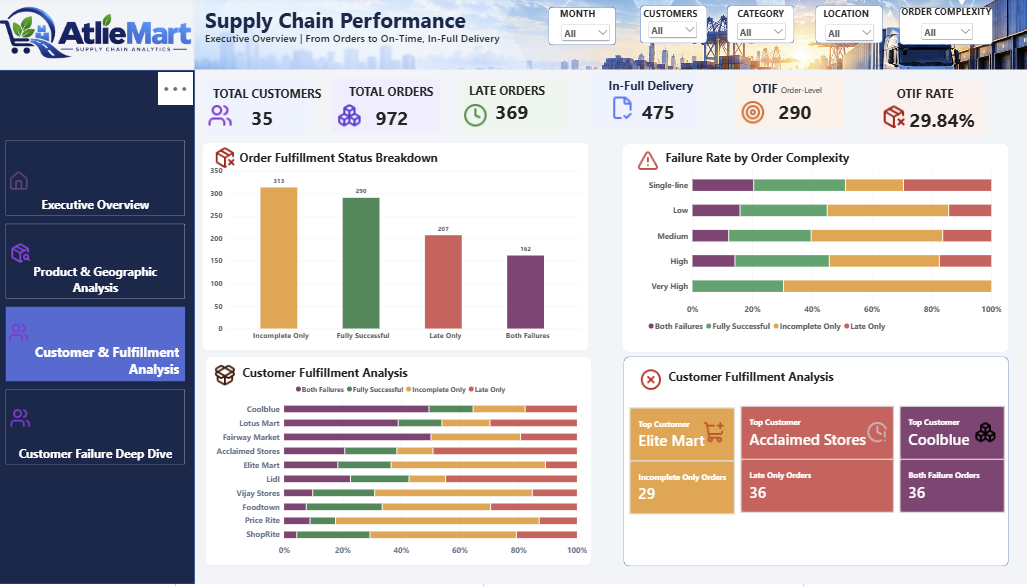

Layout of this report page (visuals, bound fields, positions):
{"tool":"powerbi","page":{"name":"Customer & Fulfillment Analysis","canvas":[2100,1200],"ordinal":2},"visuals":[{"type":"shape","box":[0,151.5,401,1047.6],"z":0,"group":"g1"},{"type":"shape","box":[418.2,169.7,218.2,112.1],"z":0,"group":"g4"},{"type":"shape","box":[680,171.4,220,110],"z":0,"group":"g5"},{"type":"cardVisual","fields":{"Data":["Measures_table.Total_Orders"]},"box":[703.7,206,193.8,72],"z":0,"group":"g2"},{"type":"cardVisual","fields":{"Data":["Measures_table.FULFILLEDORDER%"]},"box":[1837.7,211,168.9,64.6],"z":0,"group":"g3"},{"type":"shape","box":[417.1,300,788.6,425.7],"z":0,"group":"g6"},{"type":"shape","box":[1271.9,303.1,788.6,425.7],"z":0},{"type":"shape","box":[421.1,736.8,788.6,425.7],"z":0,"group":"g7"},{"type":"textbox","box":[1365.3,761.6,551.7,37.1],"z":0,"group":"g8"},{"type":"group","id":"g1","title":"Group 5","box":[0,151.5,401,1047.6],"z":500},{"type":"shape","box":[1790.6,174.5,220,110],"z":1000},{"type":"group","id":"g2","title":"Group 2","box":[685.8,179.2,211.7,98.9],"z":1000,"group":"g5"},{"type":"cardVisual","fields":{"Data":["Count(fact_order_line_rows.customer_id)"]},"box":[477.2,205.2,123.2,70.9],"z":1000,"group":"g4"},{"type":"image","box":[685.8,220.5,56,50],"z":1000,"group":"g2"},{"type":"image","box":[1796.4,223.6,56,50],"z":1000,"group":"g3"},{"type":"pageNavigator","box":[15.8,294.2,366.5,660.3],"z":1000,"group":"g1"},{"type":"clusteredColumnChart","fields":{"Category":["Order_Complexity.Fulfillment_Status"],"Y":["Measures_table.Total_Orders"]},"box":[417.1,334.3,788.6,391.4],"z":1000,"group":"g6"},{"type":"image","box":[1300.4,761.6,56.8,45],"z":1000,"group":"g8"},{"type":"hundredPercentStackedBarChart","fields":{"Category":["dim_customers_rows.customer_name"],"Y":["Measures_table.Customer_Both_Failures_Orders","Measures_table.Customer_Fully_Successful_Orders","Measures_table.Customer_Incomplete_Only_Orders","Measures_table.Customer_Late_Only_Orders"]},"box":[425.9,772,788.6,391.4],"z":1000,"group":"g7"},{"type":"shape","box":[940,171.4,220,110],"z":2000},{"type":"textbox","box":[713.7,179.2,176.9,33.3],"z":2000,"group":"g2"},{"type":"textbox","box":[1824.3,182.3,176.9,33.3],"z":2000,"group":"g3"},{"type":"image","box":[423.9,219.7,55.5,51],"z":2000,"group":"g4"},{"type":"textbox","box":[495,314.3,551.7,37.1],"z":2000,"group":"g6"},{"type":"image","box":[18.9,501.8,54.1,42.8],"z":2000,"group":"g1"},{"type":"textbox","box":[499,751.1,551.7,37.1],"z":2000,"group":"g7"},{"type":"textbox","box":[435.8,182.7,269.7,27.3],"z":3000,"group":"g4"},{"type":"image","box":[435.7,308.1,56.8,45],"z":3000,"group":"g6"},{"type":"textbox","box":[1360.7,314.3,551.7,37.1],"z":3000},{"type":"image","box":[434.1,751.1,56.8,45],"z":3000,"group":"g7"},{"type":"image","box":[18.9,840.1,54.1,42.8],"z":3000,"group":"g1"},{"type":"image","box":[16.2,665.7,54.1,42.8],"z":4000},{"type":"image","box":[1295.8,314.3,56.8,45],"z":5000},{"type":"image","box":[15.8,357.7,54.1,42.8],"z":5000,"group":"g1"},{"type":"shape","box":[1211.6,159.8,220,110],"z":6000},{"type":"shape","box":[1274.5,735.7,784.9,427.4],"z":7000},{"type":"shape","box":[1504,165.9,220,110],"z":8000},{"type":"cardVisual","fields":{"Data":["Measures_table.Top_Incomplete_Customer","Measures_table.Top_Incomplete_Customer_Count"]},"box":[1286.9,840.5,214.8,218],"z":9000},{"type":"image","box":[0,0,400,154],"z":10000},{"type":"cardVisual","fields":{"Data":["Measures_table.Orders_With_Late_Deliveries"]},"box":[987,194.3,119.2,82],"z":11000},{"type":"image","box":[1431.3,868.9,56.8,45],"z":12000},{"type":"cardVisual","fields":{"Data":["Measures_table.Orders_With_Incomplete_Deliveries"]},"box":[1258.6,194.9,172.7,63.6],"z":13000},{"type":"cardVisual","fields":{"Data":["CountNonNull(Order_Complexity.FulfillED ORDERS)"]},"box":[1537.4,194.9,173.9,72],"z":14000},{"type":"image","box":[401,4.5,1700.9,148.7],"z":15000},{"type":"image","box":[945.8,220.5,56,50],"z":16000},{"type":"image","box":[1242.4,206.1,56,50],"z":17000},{"type":"image","box":[1509.8,214.9,56,50],"z":18000},{"type":"textbox","box":[422.3,19.9,628.5,84.5],"z":19000},{"type":"textbox","box":[958.5,176.2,230.3,81.8],"z":20000},{"type":"textbox","box":[1245.2,167.6,176.9,33.3],"z":21000},{"type":"textbox","box":[1537.7,173.6,176.9,33.3],"z":22000},{"type":"textbox","box":[421.3,72.1,757,38.3],"z":23000},{"type":"shape","box":[1666,22.5,137,77],"z":24000},{"type":"shape","box":[1307.8,22.5,137,77],"z":25000},{"type":"shape","box":[1121.7,23.3,137.3,77.7],"z":26000},{"type":"shape","box":[1485.7,22.5,137,77],"z":27000},{"type":"shape","box":[1836.7,23.3,190,77],"z":28000},{"type":"group","id":"g3","title":"Group 2","box":[1796.4,182.3,210.3,93.3],"z":29000},{"type":"slicer","fields":{"Values":["dim_products_rows.category"]},"box":[1499.9,51.8,109.3,84.5],"z":30000},{"type":"slicer","fields":{"Values":["dim_customers_rows.city"]},"box":[1681.2,54.4,109.3,84.5],"z":31000},{"type":"slicer","fields":{"Values":["Order_Complexity.complexity_Category"]},"box":[1875.5,51.8,115.1,81.2],"z":32000},{"type":"slicer","fields":{"Values":["dim_customers_rows.customer_name"]},"box":[1321.6,49.7,109.3,84.5],"z":33000},{"type":"slicer","fields":{"Values":["date_table.month_name"]},"box":[1142.4,54.4,109.3,84.5],"z":34000},{"type":"textbox","box":[1269.4,24.8,203.7,84.5],"z":35000},{"type":"textbox","box":[1088.1,24.8,186.4,85.3],"z":36000},{"type":"textbox","box":[1634.6,24.8,186.4,85.3],"z":37000},{"type":"textbox","box":[1833.4,22.4,196.9,44],"z":38000},{"type":"textbox","box":[1460.7,24.8,186.4,85.3],"z":39000},{"type":"group","id":"g4","title":"Group 1","box":[418.2,169.7,287.3,112.1],"z":40000},{"type":"group","id":"g5","title":"Group 3","box":[680,171.4,220,110],"z":41000},{"type":"group","id":"g6","title":"Group 4","box":[417.1,300,788.6,425.7],"z":42000},{"type":"hundredPercentStackedBarChart","fields":{"Category":["Order_Complexity.complexity_Category"],"Series":["Order_Complexity.Fulfillment_Status"],"Y":["Count(fact_order_line_rows.order_id)"]},"box":[1306.7,332.9,752.7,372.6],"z":43000},{"type":"group","id":"g7","title":"Group 4","box":[421.1,736.8,793.4,426.6],"z":44000},{"type":"cardVisual","fields":{"Data":["Measures_table.Top_Late_Customer","Measures_table.Top_Late_Customer_Count"]},"box":[1513.4,837.3,312.8,218],"z":45000},{"type":"cardVisual","fields":{"Data":["Measures_table.Top_Both_Failure_Customer","Measures_table.Top_Both_Failure_Customer_Count"]},"box":[1835.7,837.3,214.8,218],"z":46000},{"type":"image","box":[1763,868.9,56.8,45],"z":47000},{"type":"image","box":[1984.2,868.9,56.8,45],"z":48000},{"type":"group","id":"g8","title":"Group 4","box":[1300.4,761.6,616.5,44],"z":49000},{"type":"actionButton","box":[1286.9,840.5,216.4,216.4],"z":50000},{"type":"actionButton","box":[1512.8,836.2,313.9,219.2],"z":51000},{"type":"actionButton","box":[1837.5,836.2,211.1,219.2],"z":52000}]}

Visuals, with their boxes on the page's 2100x1200 design canvas (x1, y1, x2, y2). These are canvas units, not pixel positions in the 1027x586 screenshot, which may show the page scaled, cropped or inside an application window:
shape: <box>0,152,401,1199</box>
shape: <box>418,170,636,282</box>
shape: <box>680,171,900,281</box>
cardVisual - Measures_table.Total_Orders: <box>704,206,898,278</box>
cardVisual - Measures_table.FULFILLEDORDER%: <box>1838,211,2007,276</box>
shape: <box>417,300,1206,726</box>
shape: <box>1272,303,2060,729</box>
shape: <box>421,737,1210,1162</box>
textbox: <box>1365,762,1917,799</box>
"Group 5" group: <box>0,152,401,1199</box>
shape: <box>1791,174,2011,284</box>
"Group 2" group: <box>686,179,898,278</box>
cardVisual - Count(fact_order_line_rows.customer_id): <box>477,205,600,276</box>
image: <box>686,220,742,270</box>
image: <box>1796,224,1852,274</box>
pageNavigator: <box>16,294,382,954</box>
clusteredColumnChart - Order_Complexity.Fulfillment_Status x Measures_table.Total_Orders: <box>417,334,1206,726</box>
image: <box>1300,762,1357,807</box>
hundredPercentStackedBarChart - dim_customers_rows.customer_name x Measures_table.Customer_Both_Failures_Orders: <box>426,772,1214,1163</box>
shape: <box>940,171,1160,281</box>
textbox: <box>714,179,891,212</box>
textbox: <box>1824,182,2001,216</box>
image: <box>424,220,479,271</box>
textbox: <box>495,314,1047,351</box>
image: <box>19,502,73,545</box>
textbox: <box>499,751,1051,788</box>
textbox: <box>436,183,706,210</box>
image: <box>436,308,492,353</box>
textbox: <box>1361,314,1912,351</box>
image: <box>434,751,491,796</box>
image: <box>19,840,73,883</box>
image: <box>16,666,70,708</box>
image: <box>1296,314,1353,359</box>
image: <box>16,358,70,400</box>
shape: <box>1212,160,1432,270</box>
shape: <box>1274,736,2059,1163</box>
shape: <box>1504,166,1724,276</box>
cardVisual - Measures_table.Top_Incomplete_Customer x Measures_table.Top_Incomplete_Customer_Count: <box>1287,840,1502,1058</box>
image: <box>0,0,400,154</box>
cardVisual - Measures_table.Orders_With_Late_Deliveries: <box>987,194,1106,276</box>
image: <box>1431,869,1488,914</box>
cardVisual - Measures_table.Orders_With_Incomplete_Deliveries: <box>1259,195,1431,258</box>
cardVisual - CountNonNull(Order_Complexity.FulfillED ORDERS): <box>1537,195,1711,267</box>
image: <box>401,4,2102,153</box>
image: <box>946,220,1002,270</box>
image: <box>1242,206,1298,256</box>
image: <box>1510,215,1566,265</box>
textbox: <box>422,20,1051,104</box>
textbox: <box>958,176,1189,258</box>
textbox: <box>1245,168,1422,201</box>
textbox: <box>1538,174,1715,207</box>
textbox: <box>421,72,1178,110</box>
shape: <box>1666,22,1803,100</box>
shape: <box>1308,22,1445,100</box>
shape: <box>1122,23,1259,101</box>
shape: <box>1486,22,1623,100</box>
shape: <box>1837,23,2027,100</box>
"Group 2" group: <box>1796,182,2007,276</box>
slicer - dim_products_rows.category: <box>1500,52,1609,136</box>
slicer - dim_customers_rows.city: <box>1681,54,1790,139</box>
slicer - Order_Complexity.complexity_Category: <box>1876,52,1991,133</box>
slicer - dim_customers_rows.customer_name: <box>1322,50,1431,134</box>
slicer - date_table.month_name: <box>1142,54,1252,139</box>
textbox: <box>1269,25,1473,109</box>
textbox: <box>1088,25,1274,110</box>
textbox: <box>1635,25,1821,110</box>
textbox: <box>1833,22,2030,66</box>
textbox: <box>1461,25,1647,110</box>
"Group 1" group: <box>418,170,706,282</box>
"Group 3" group: <box>680,171,900,281</box>
"Group 4" group: <box>417,300,1206,726</box>
hundredPercentStackedBarChart - Order_Complexity.complexity_Category x Order_Complexity.Fulfillment_Status: <box>1307,333,2059,706</box>
"Group 4" group: <box>421,737,1214,1163</box>
cardVisual - Measures_table.Top_Late_Customer x Measures_table.Top_Late_Customer_Count: <box>1513,837,1826,1055</box>
cardVisual - Measures_table.Top_Both_Failure_Customer x Measures_table.Top_Both_Failure_Customer_Count: <box>1836,837,2050,1055</box>
image: <box>1763,869,1820,914</box>
image: <box>1984,869,2041,914</box>
"Group 4" group: <box>1300,762,1917,806</box>
actionButton: <box>1287,840,1503,1057</box>
actionButton: <box>1513,836,1827,1055</box>
actionButton: <box>1838,836,2049,1055</box>
